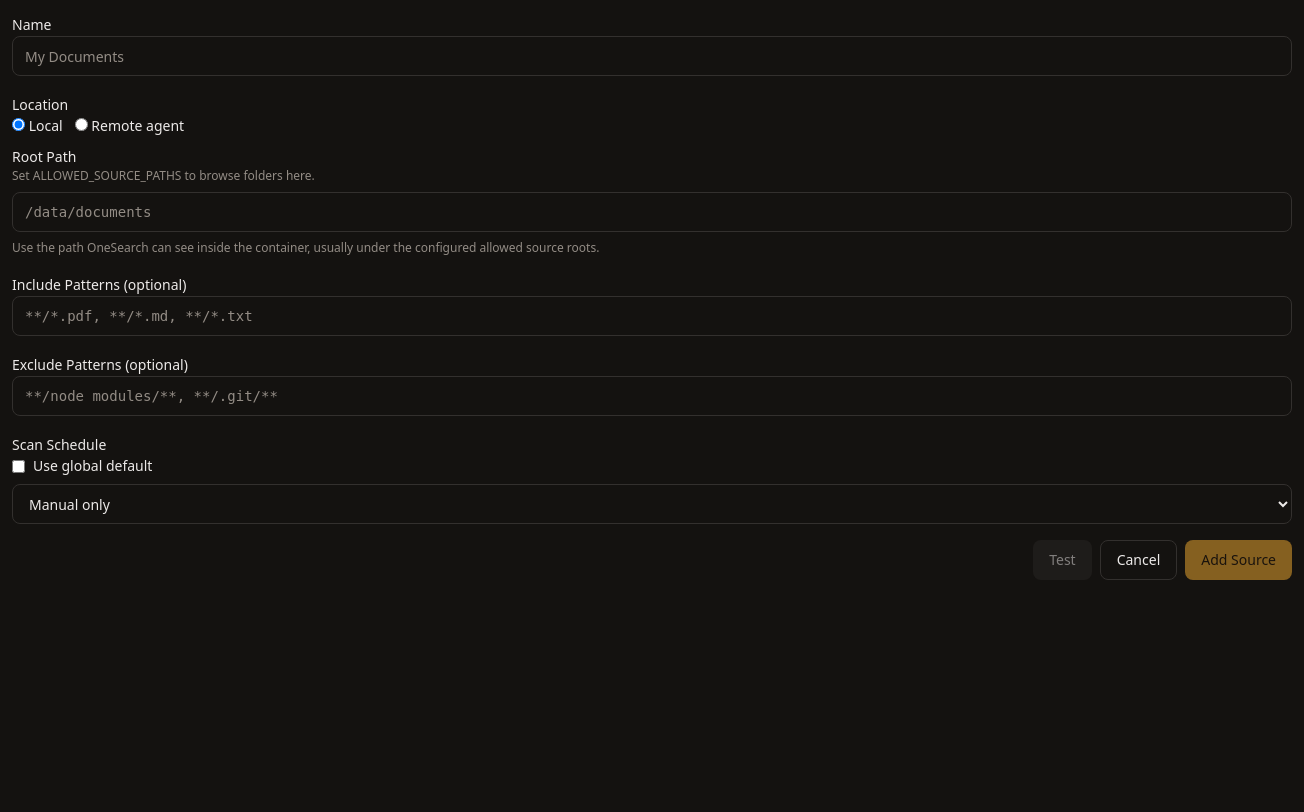
Scenario: SourceForm remote source flow › shows the offline response from remote validation
Click the radio button labelled "Remote agent".
click(81, 124)  # box [75, 118, 88, 131]
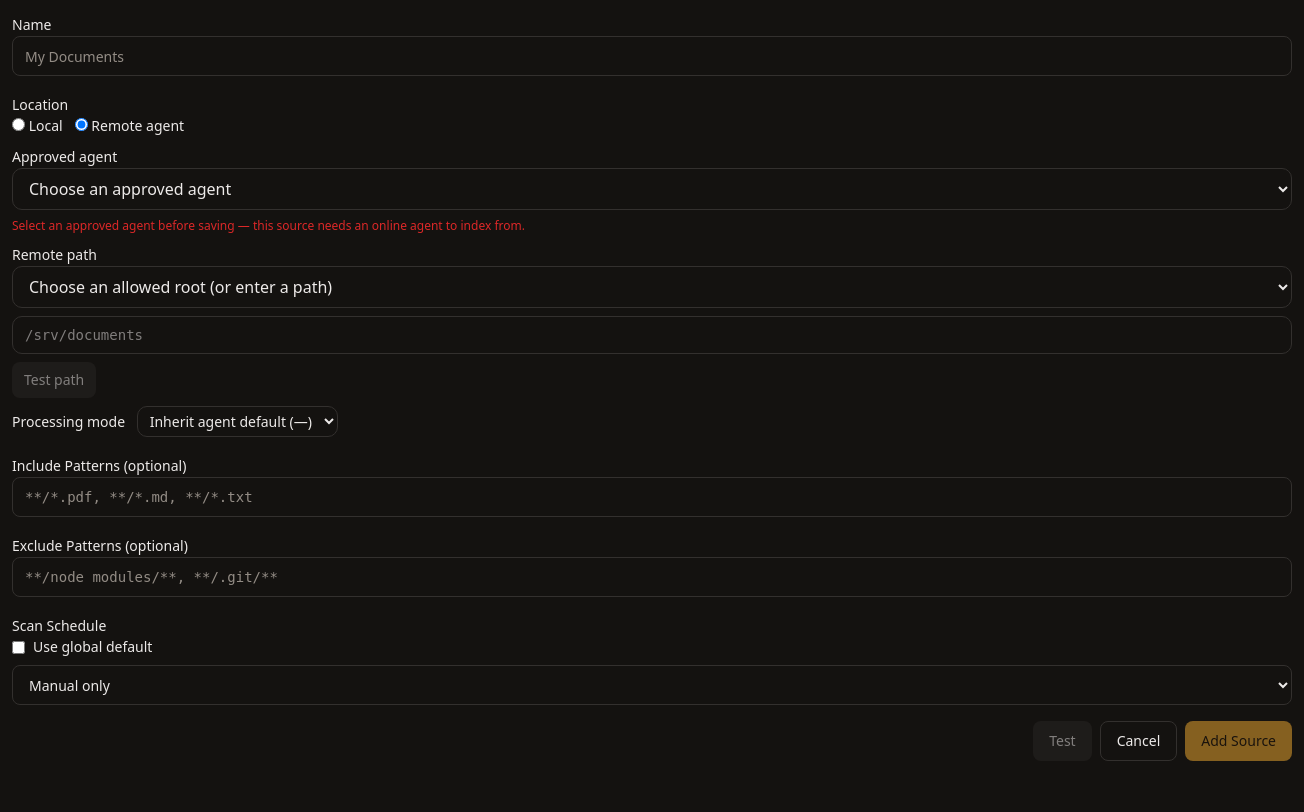
Select "Online agent (online)" in the dropdown labelled "Approved agent" at (652, 189), box [12, 168, 1292, 210]
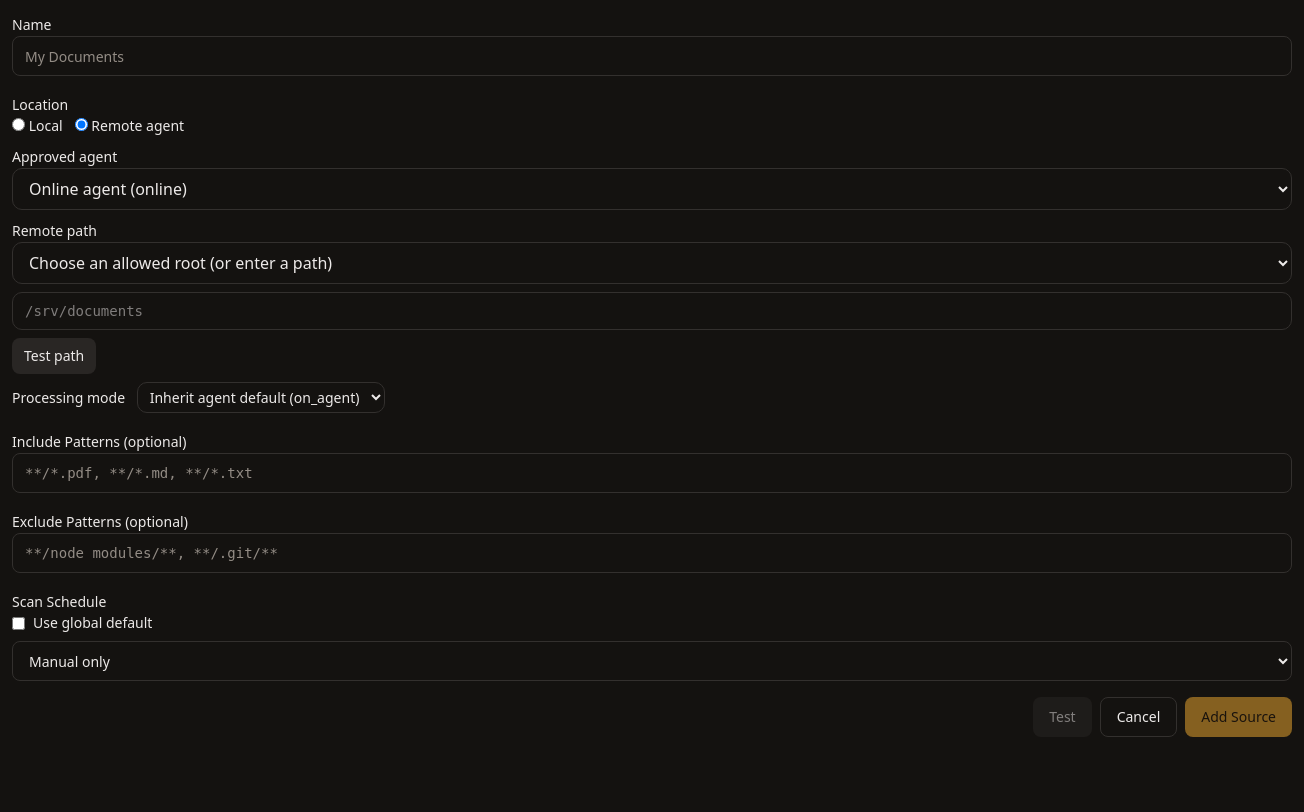
Type "/srv/docs" into the field labelled "Remote path".
click(652, 311); type("/srv/docs")  # box [12, 292, 1292, 330]
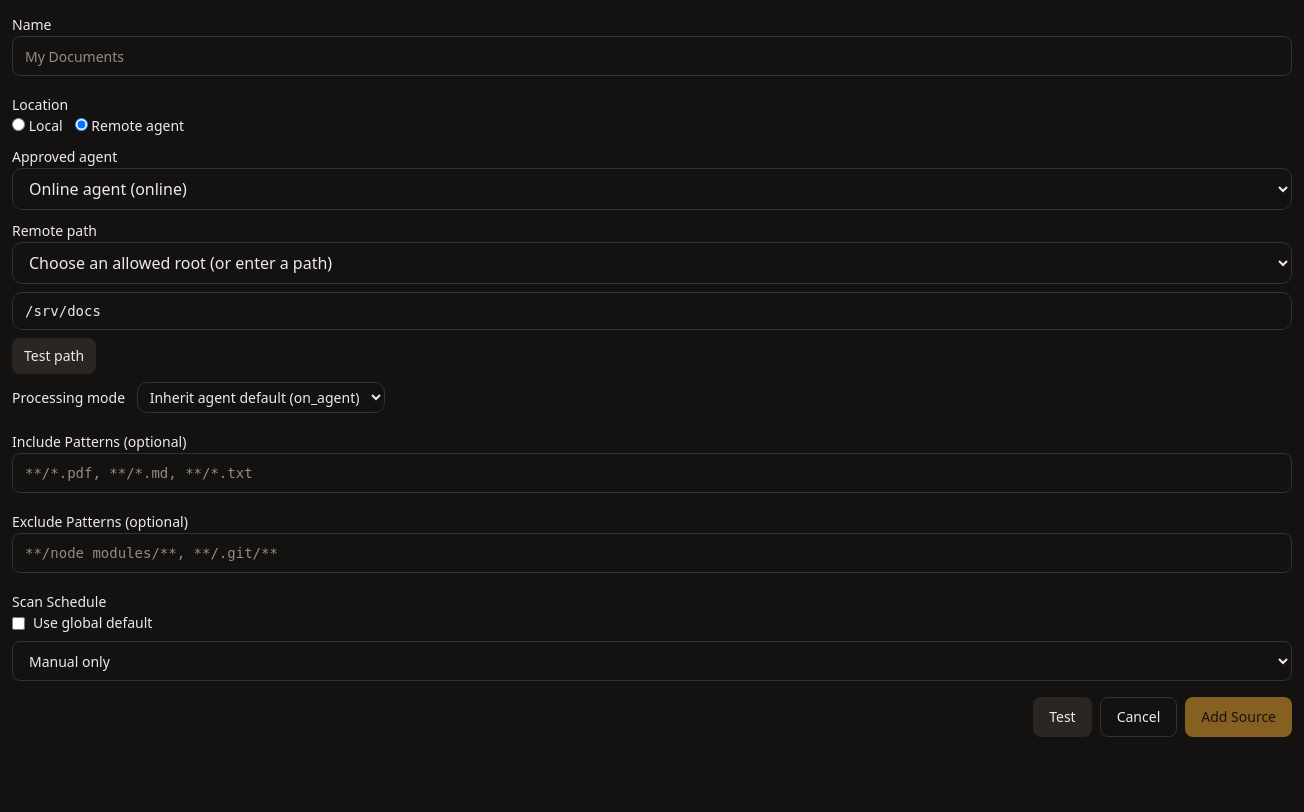
Click the button "Test path".
click(54, 356)  # box [12, 338, 96, 374]
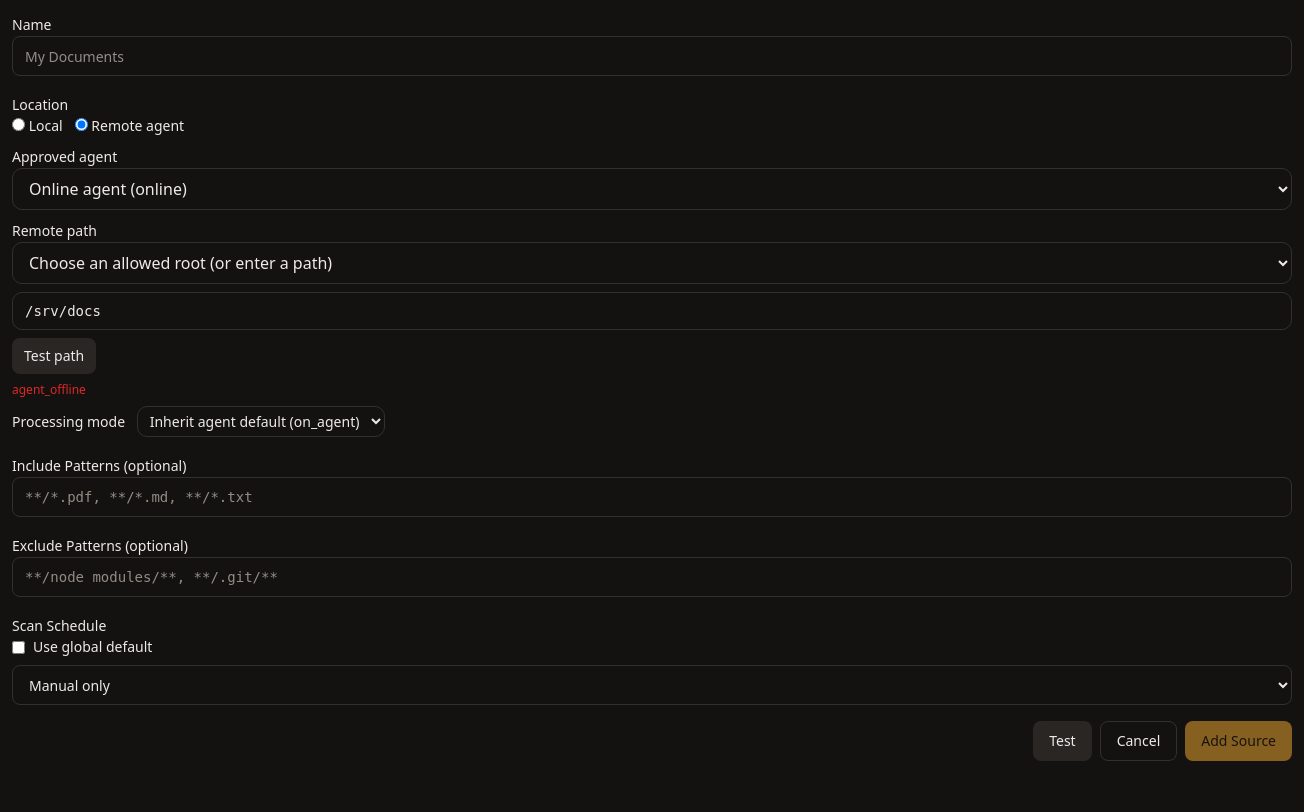
Expected: the text "agent_offline" is shown, [12, 381, 86, 398]
